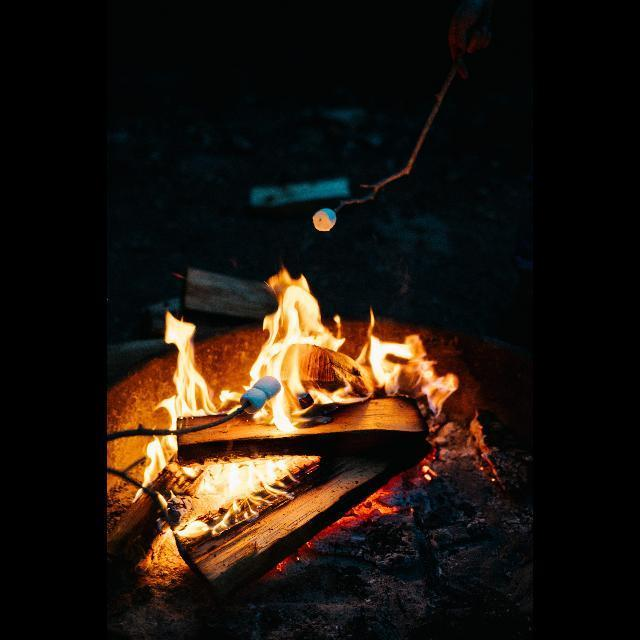Fire: (132, 259, 458, 539)
